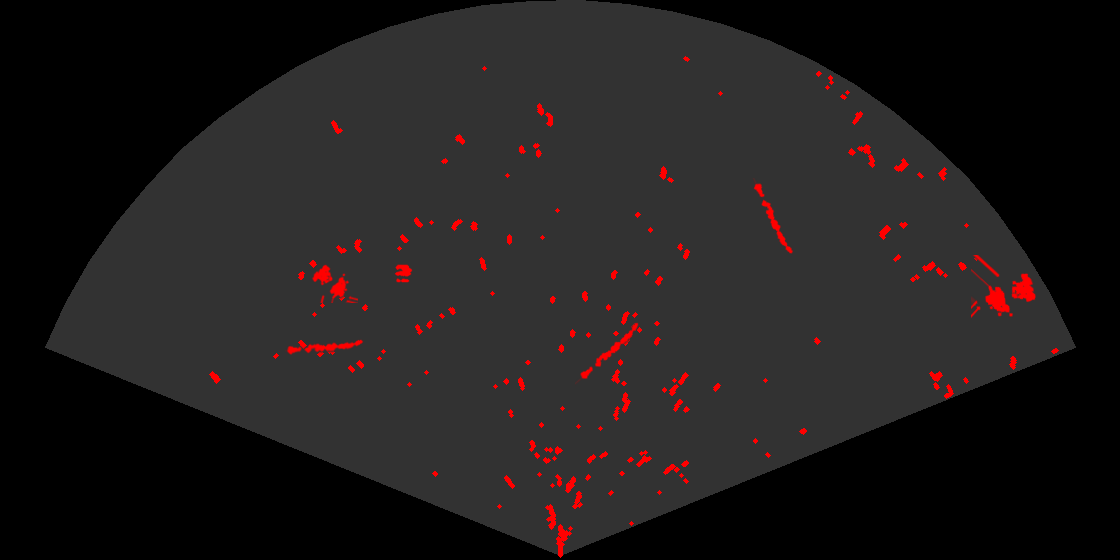ball: (393, 263, 414, 284)
cage: (971, 255, 1037, 320), (310, 263, 358, 303)
chain: (575, 321, 640, 386), (751, 178, 794, 255), (285, 338, 364, 356)
